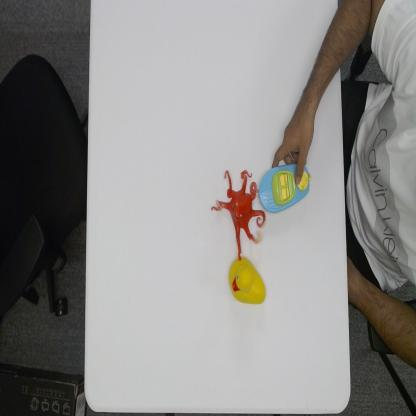Arm: (305, 0, 344, 112)
Boat: (258, 162, 312, 214)
Duck: (228, 256, 268, 306)
Hand: (272, 106, 316, 184)
Octopus: (211, 168, 266, 260)
